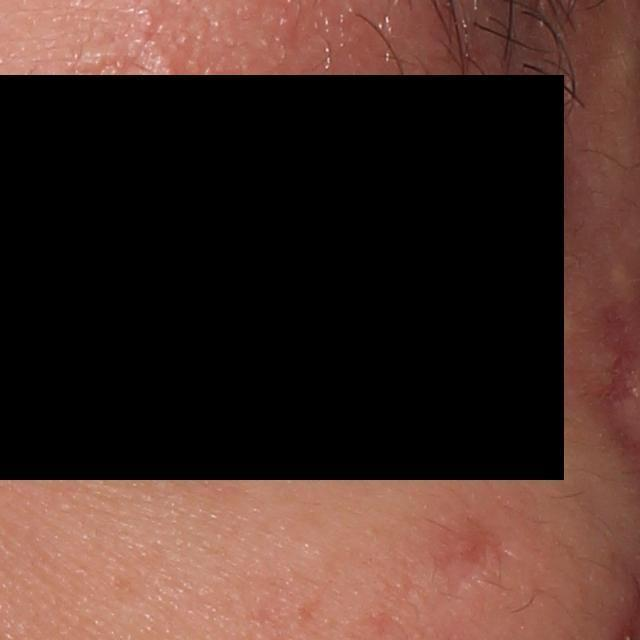atrophic_scar: (429, 520, 510, 604)
